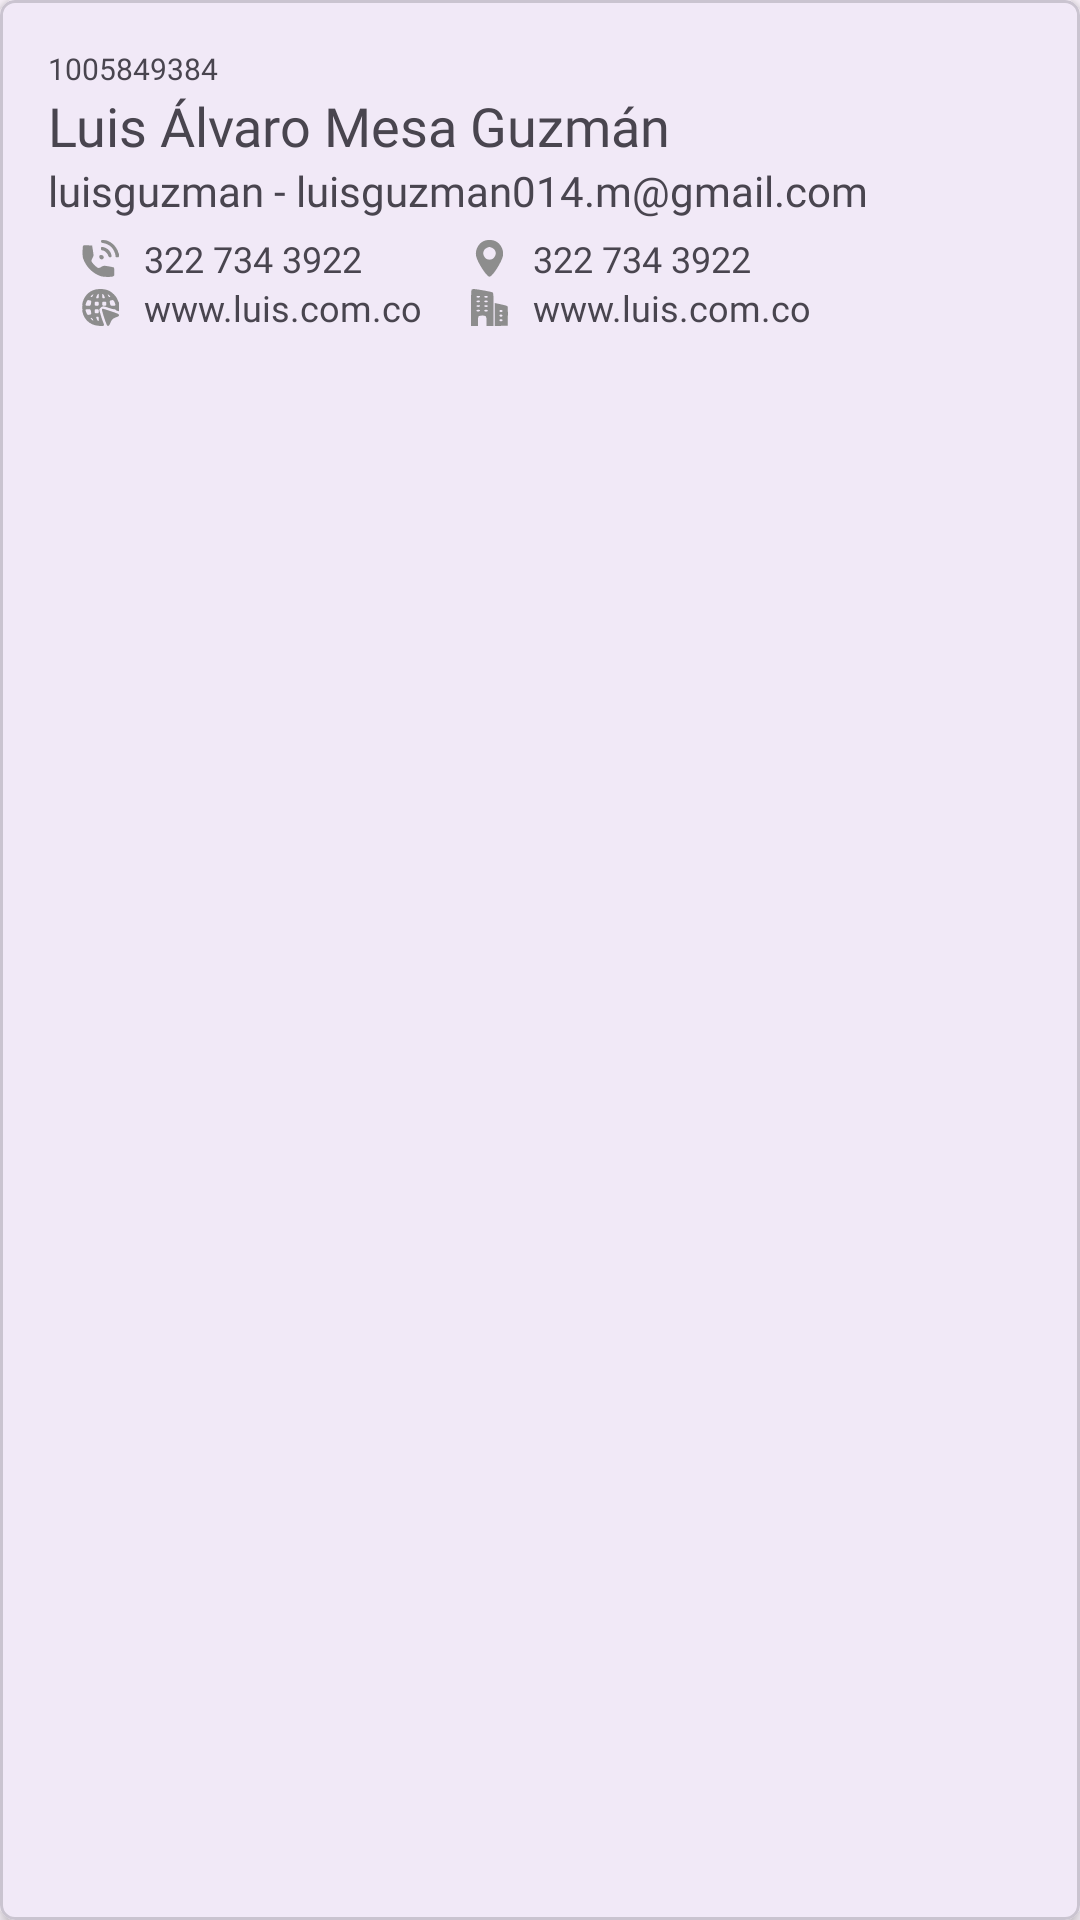

Where to tap for icons on this 1080px x 1920px app screen, as (x=x, y=y):
address: (x=489, y=258)
company: (x=489, y=307)
phone: (x=100, y=258)
website: (x=100, y=307)
